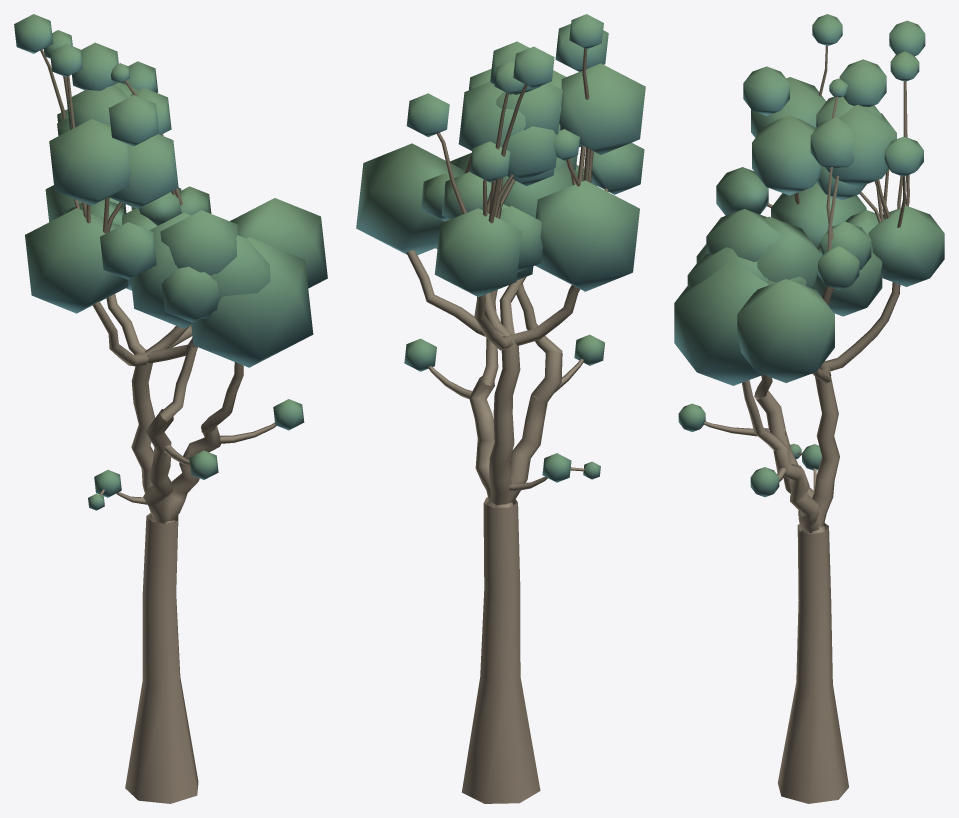
The model's file is seed_tree_j.glb.
The picture shows the model from 3 angles, left to right: view 1: azimuth 30°, elevation 25°; view 2: azimuth 150°, elevation 25°; view 3: azimuth 270°, elevation 25°; orthographic projection. The views are drawn at different scales.
Parts seen in each view (by area): view 1: seed_tree_j_LOD0; view 2: seed_tree_j_LOD0; view 3: seed_tree_j_LOD0.
Part boxes in pixels (x1,y1,x2,y2): seed_tree_j_LOD0: [14, 14, 327, 803]; seed_tree_j_LOD0: [356, 14, 645, 803]; seed_tree_j_LOD0: [674, 14, 944, 803].
Size of what is drawn, in the model's own units: 5.12 by 13.67 by 4.57.
